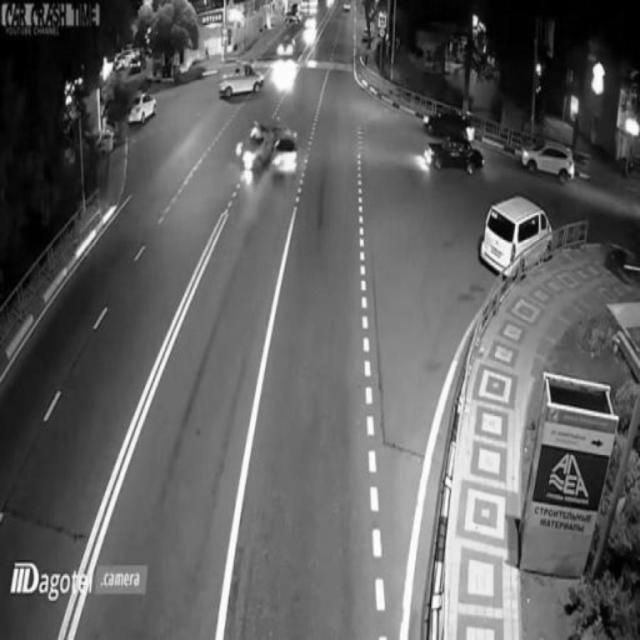accident: (238, 117, 300, 179)
vehicle: (482, 196, 555, 274), (422, 136, 484, 178), (522, 140, 576, 186), (424, 104, 480, 142), (222, 59, 264, 99)
